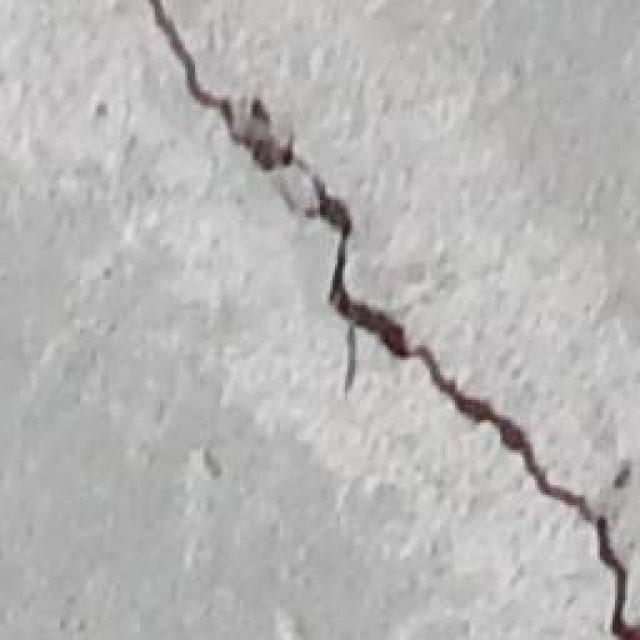concrete-crack: (145, 0, 635, 639)
